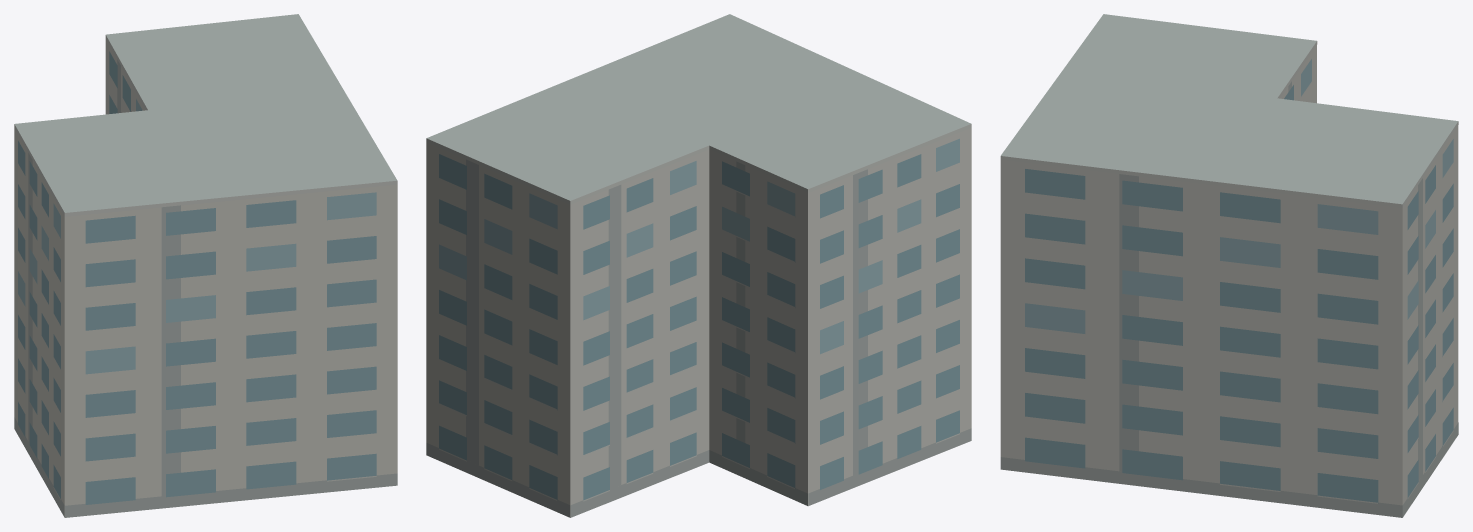
File: survey-upis-32875323.glb
3 renders of one model, left to right at view 1: azimuth 30°, elevation 25°; view 2: azimuth 150°, elevation 25°; view 3: azimuth 270°, elevation 25°, orthographic. The views are drawn at different scales.
Visible parts, largest first — view 1: survey-upis-32875323.tmp; view 2: survey-upis-32875323.tmp; view 3: survey-upis-32875323.tmp.
Part boxes in pixels (box(x1,y1,x2,y2)): survey-upis-32875323.tmp: box(14, 14, 397, 517); survey-upis-32875323.tmp: box(426, 14, 971, 517); survey-upis-32875323.tmp: box(1000, 14, 1458, 517).
Bounding box in the file's own units: 26.17 × 20.1 × 26.61.
